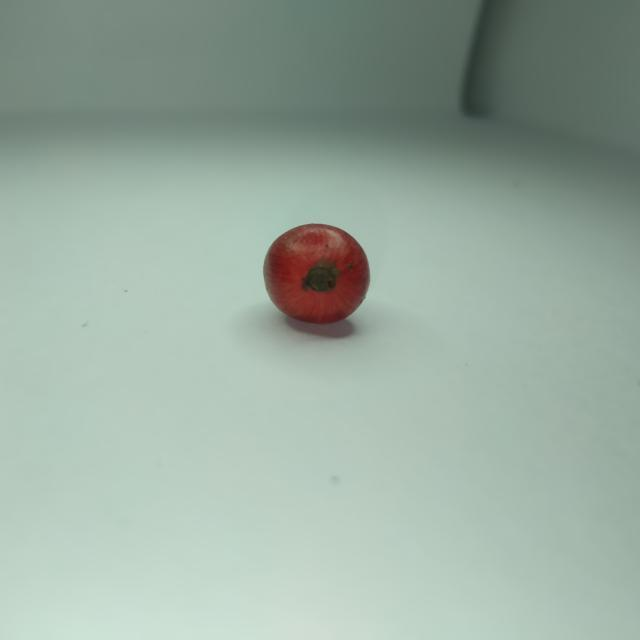Infectado: (263, 224, 369, 325)
